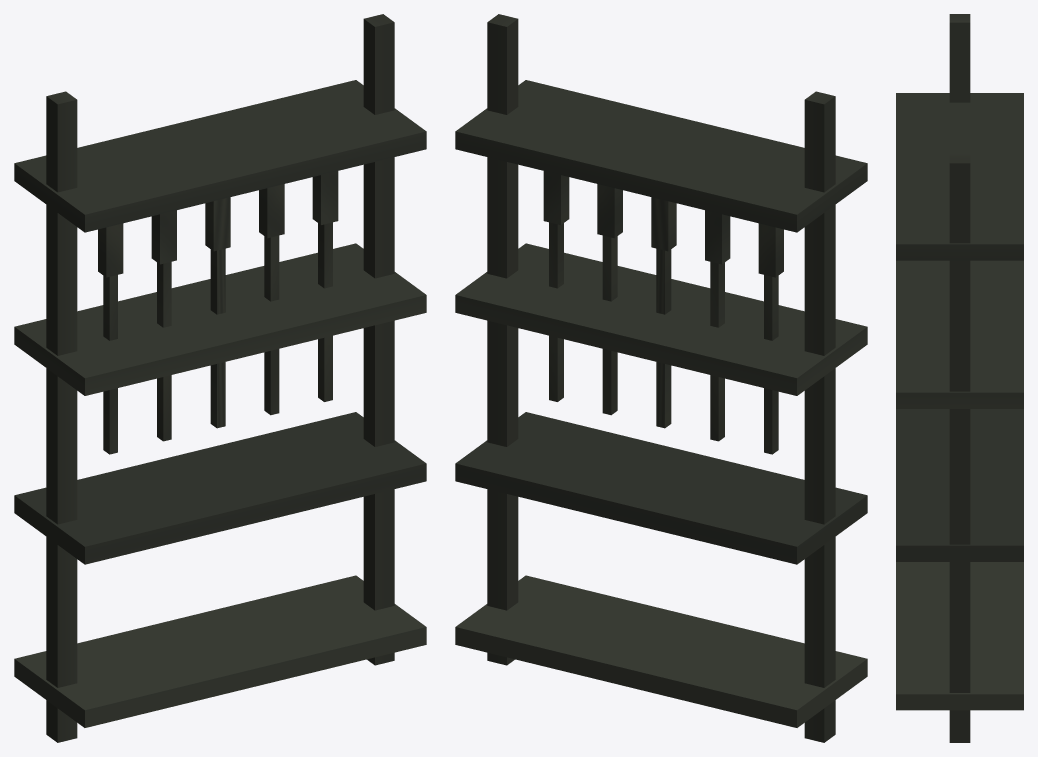
Rendered from prop_weapon_rack_empty_a.glb.
The picture shows the model from 3 angles, left to right: view 1: azimuth 30°, elevation 25°; view 2: azimuth 150°, elevation 25°; view 3: azimuth 270°, elevation 25°; orthographic projection. The views are drawn at different scales.
Parts seen in each view (by area): view 1: prop_weapon_rack_empty_a; view 2: prop_weapon_rack_empty_a; view 3: prop_weapon_rack_empty_a.
Boxes of the visible parts, x1,y1,x2,y2 form: prop_weapon_rack_empty_a: [14, 14, 426, 742]; prop_weapon_rack_empty_a: [455, 14, 867, 742]; prop_weapon_rack_empty_a: [896, 14, 1023, 742].
Bounding box in the file's own units: 1.4 × 2.5 × 0.5.
1 material, 1 textured.
